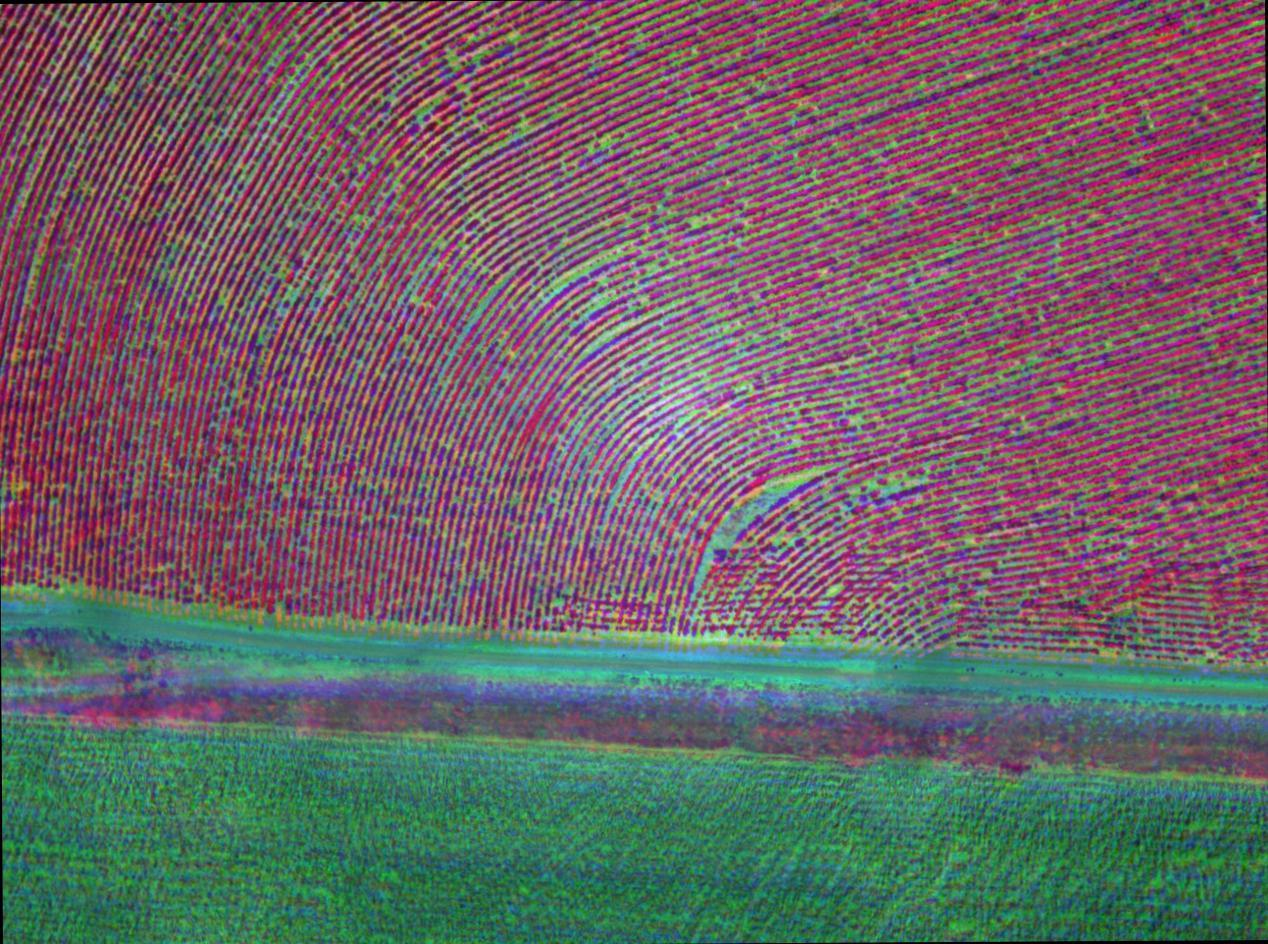dc: (558, 240, 688, 373), (698, 460, 827, 576), (118, 225, 240, 323), (211, 83, 310, 189), (418, 58, 526, 138), (721, 303, 799, 395)
